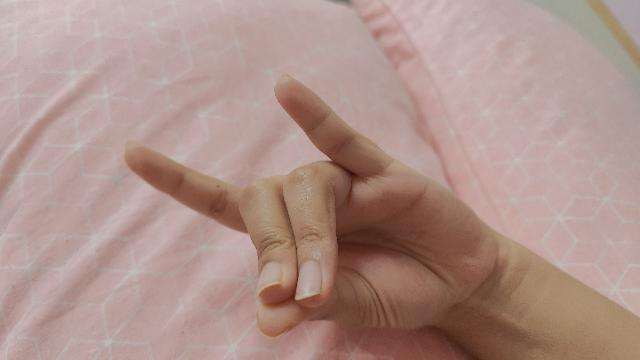sinhamukh: (124, 78, 640, 360)
